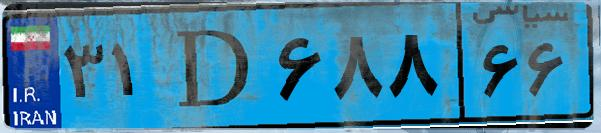1: (110, 28, 158, 98)
3: (57, 26, 110, 100)
6: (270, 28, 330, 110), (475, 38, 525, 113), (525, 38, 570, 115)
8: (385, 28, 445, 110), (330, 28, 385, 110)
D: (158, 12, 270, 120)
